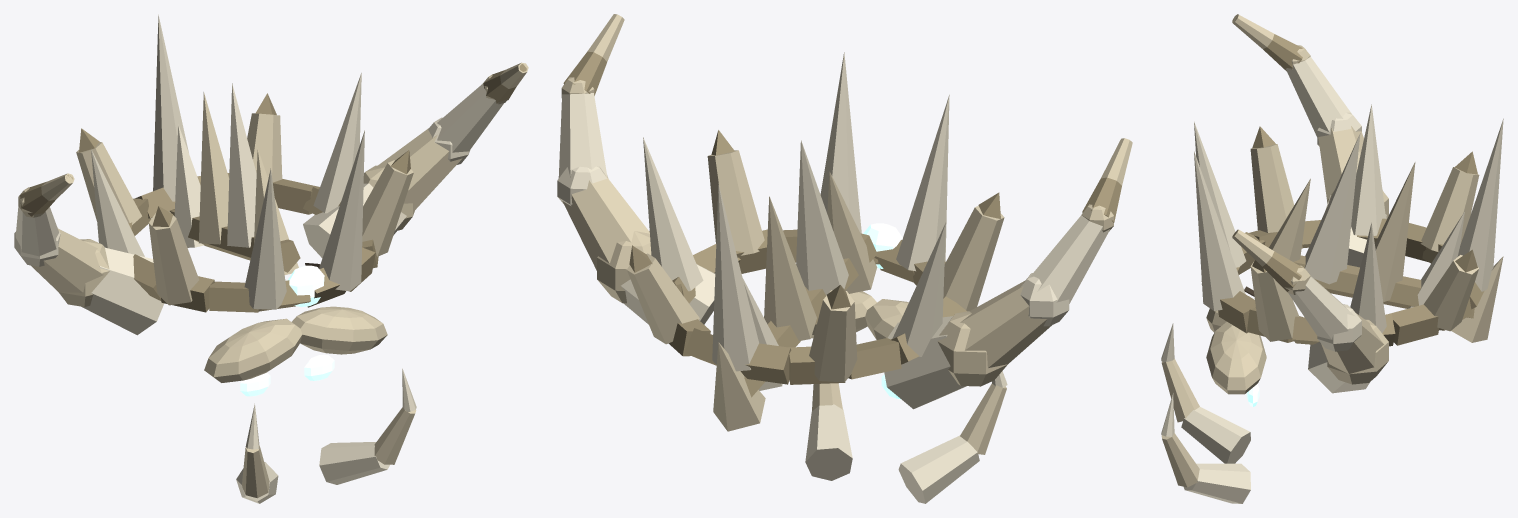
File: bone_titan_head.glb
3 renders of one model, left to right at view 1: azimuth 30°, elevation 25°; view 2: azimuth 150°, elevation 25°; view 3: azimuth 270°, elevation 25°, orthographic. The views are drawn at different scales.
Visible parts, largest first — view 1: bone_titan_head; view 2: bone_titan_head; view 3: bone_titan_head.
Boxes of the visible parts, x1,y1,x2,y2 form: bone_titan_head: [14, 14, 528, 503]; bone_titan_head: [557, 14, 1132, 503]; bone_titan_head: [1161, 14, 1503, 503].
Size of the model in its own units: 2 by 1.47 by 1.24.
